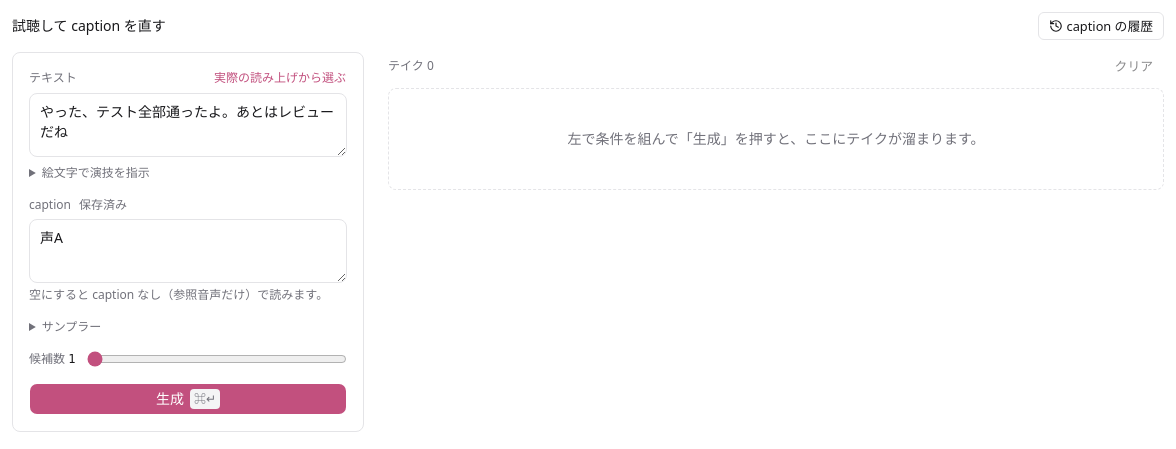
Test: 1回の生成では最初に鳴らせるようになったテイクだけを自動で再生する
Set the slider labelled "候補数 1" to "2". click: [130, 359]
box: [87, 351, 347, 367]
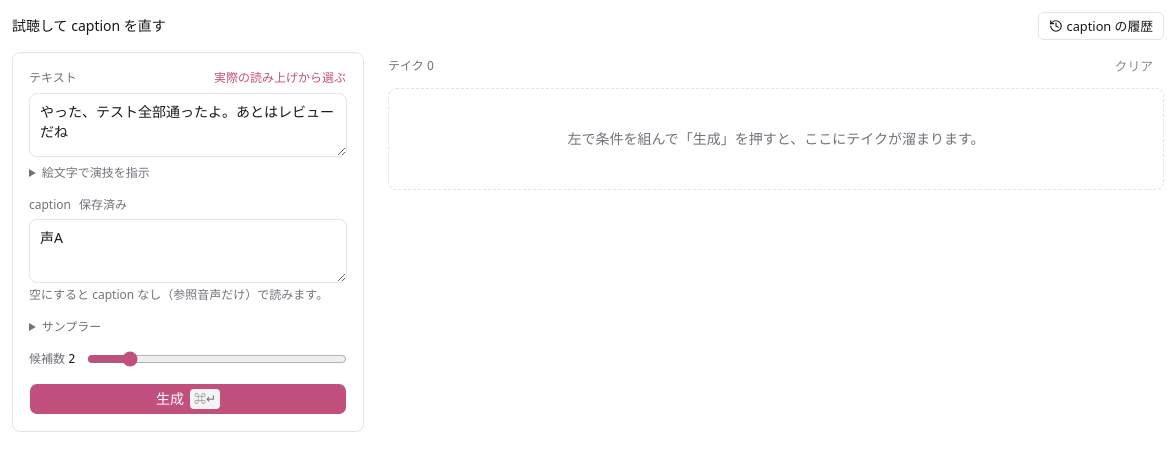
Click the button "生成 ⌘↵". click: [188, 399]
box: [29, 383, 347, 415]
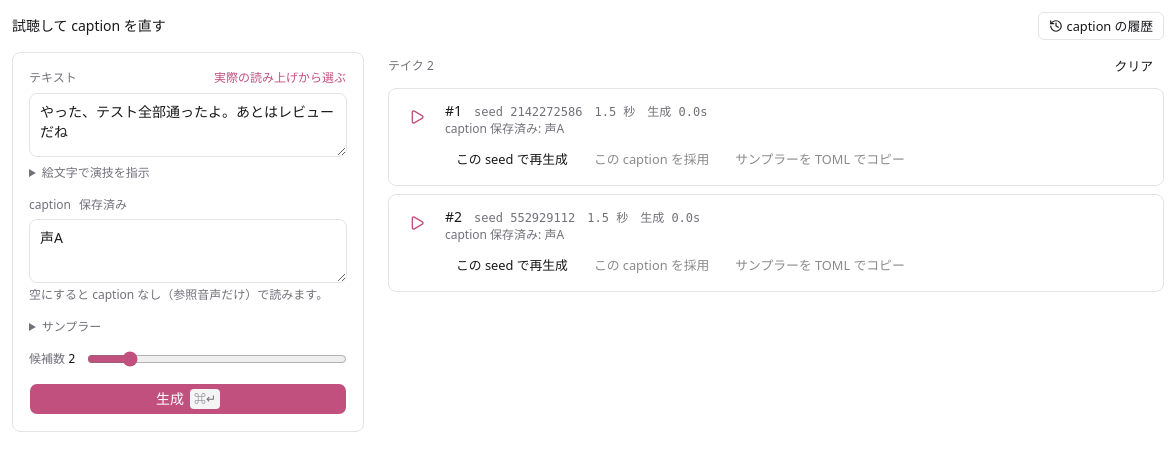
Expected: the button "クリア" is enabled, [1104, 52, 1164, 80]
